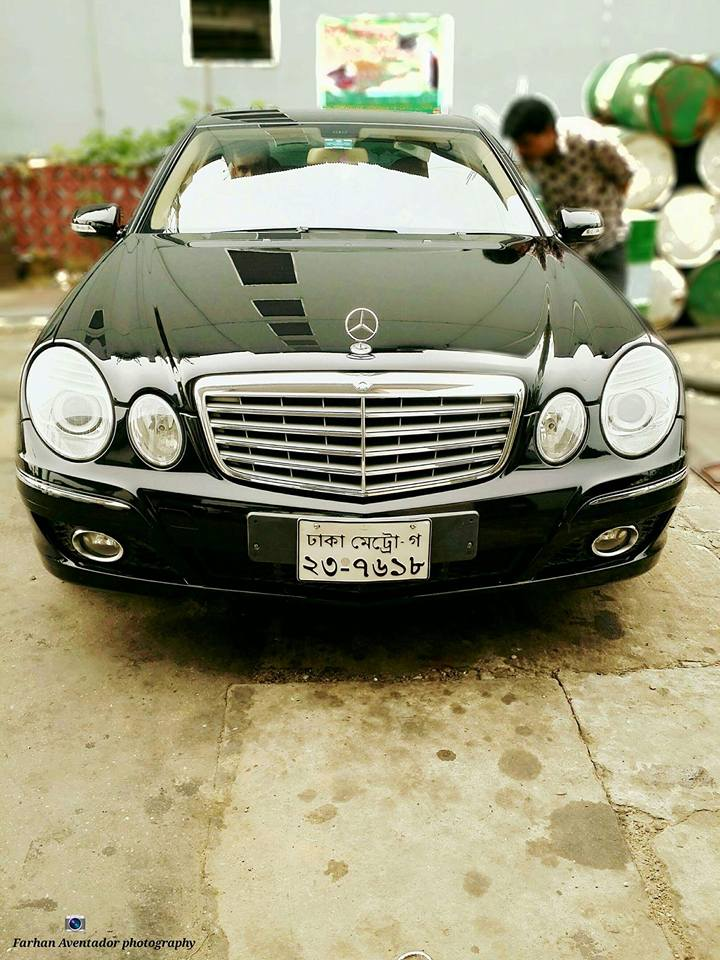registration_plate: (296, 517, 431, 582)
